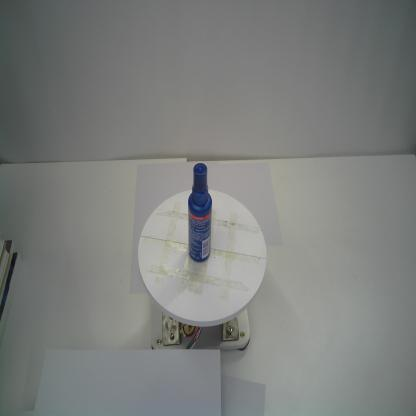Personal Hygiene: (185, 160, 213, 264)
